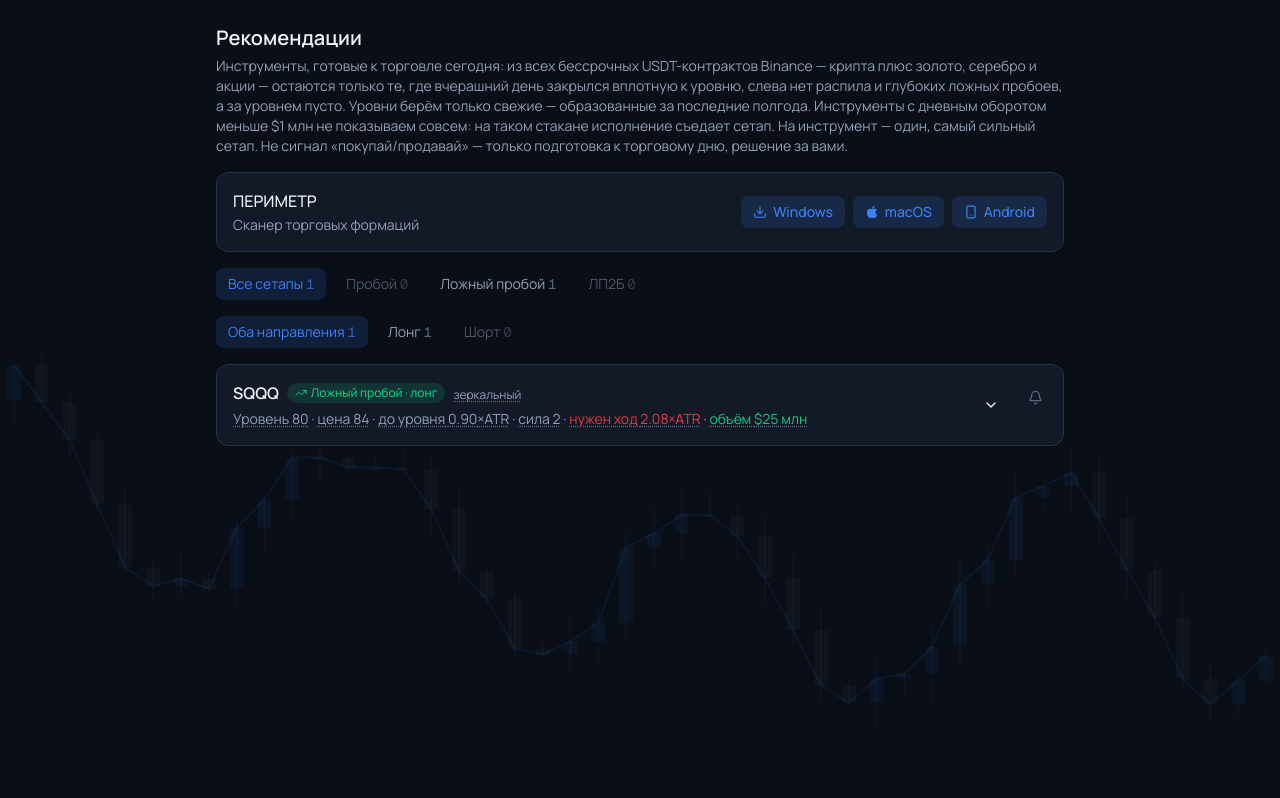
Test case: expanded setup card › survives a setup whose quality lacks newer metrics
Check: the text "Ложный пробой · лонг" is shown, box 287,383 -> 445,403
Click the text "SQQQ".
click(256, 393)  # box 233,381 -> 279,405
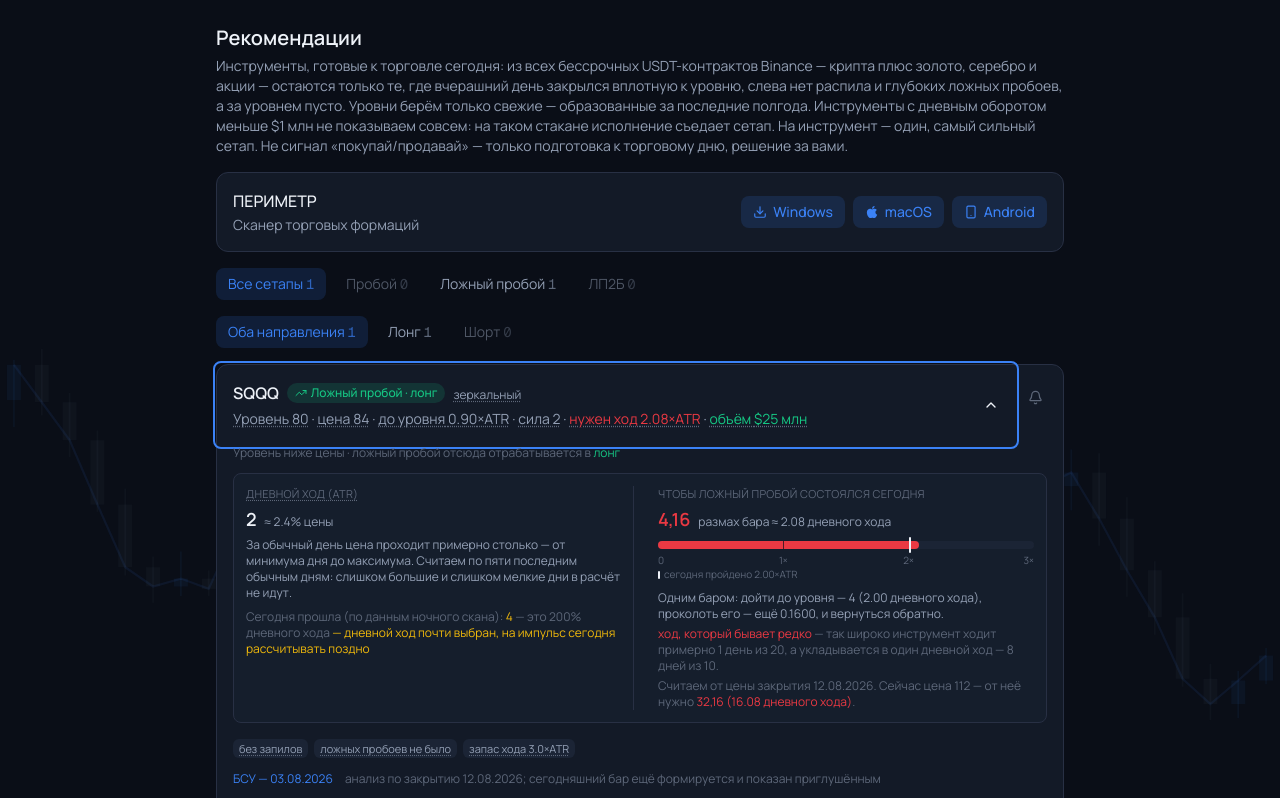
Check: the text "без запилов" is shown, box 233,738 -> 308,758
